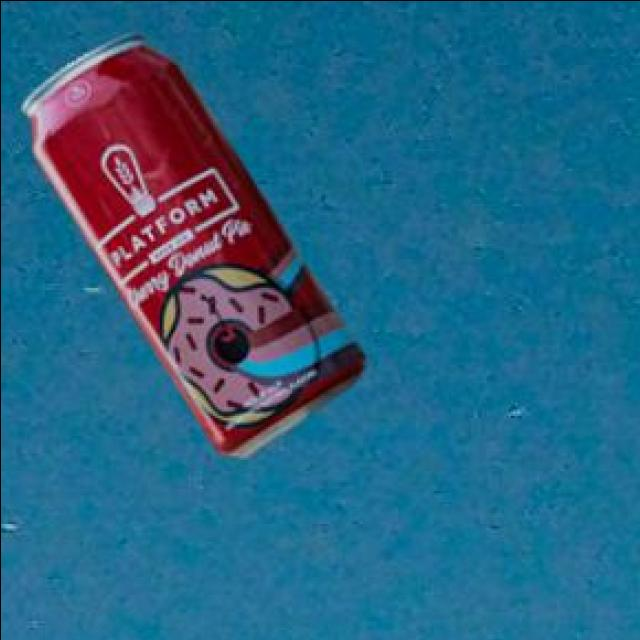logam: (25, 36, 367, 460)
